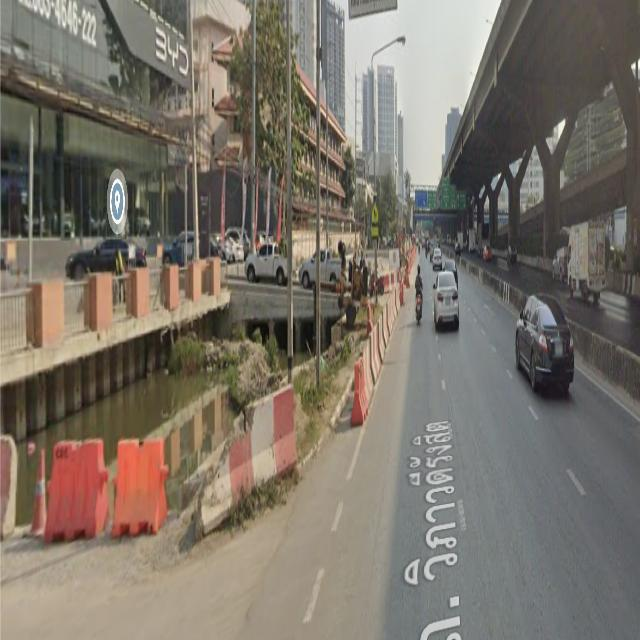fallen_object: (32, 423, 169, 549), (167, 389, 302, 507), (349, 232, 409, 428)
